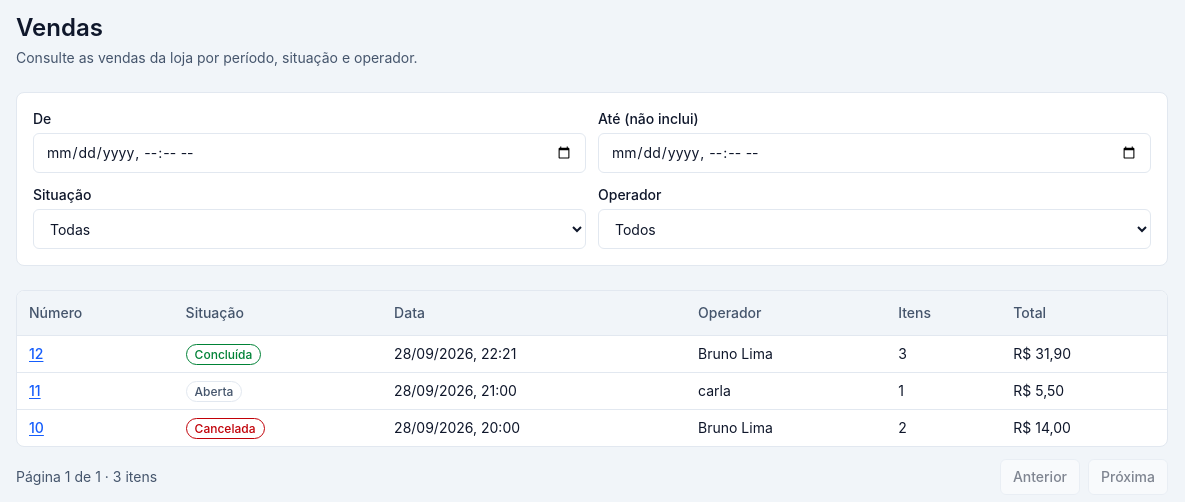
Test: SalesPage — lista › põe período, situação e operador na query do servidor
Check: the cell "12" is shown, box [17, 336, 174, 372]
Note: O datetime-local (hora local) vira ISO com offset — é o que o servidor aceita.
Step 1. Type "2026-09-28T08:00" into the field labelled "De" → [310, 153], box [33, 133, 586, 173]
Step 2. Type "2026-09-28T18:00" into the field labelled "Até (não inclui)" → [874, 153], box [598, 133, 1151, 173]
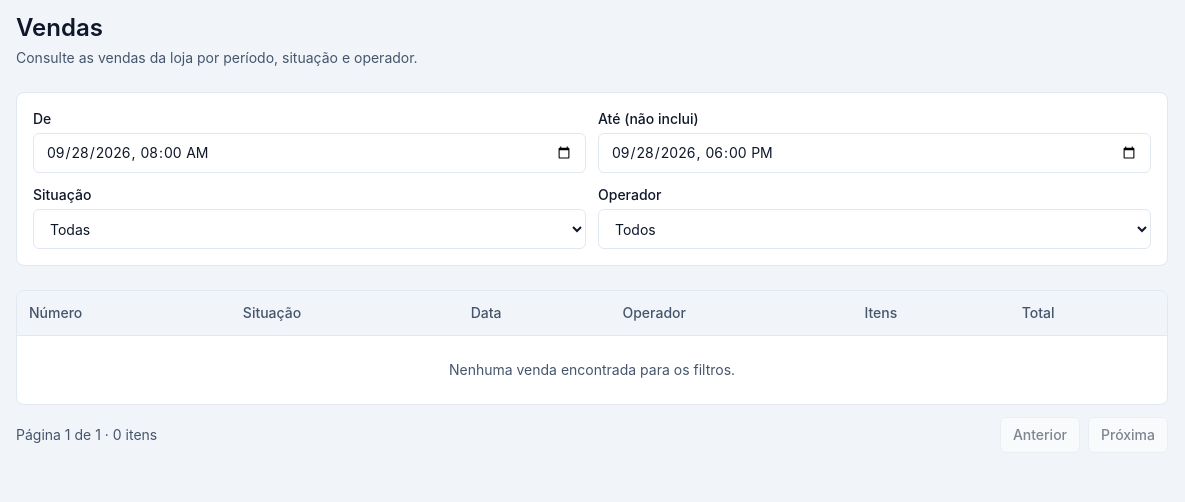
Note: Limpa o período para os próximos filtros não cruzarem com ele.
Step 3. Clear the field labelled "De" → [310, 153], box [33, 133, 586, 173]
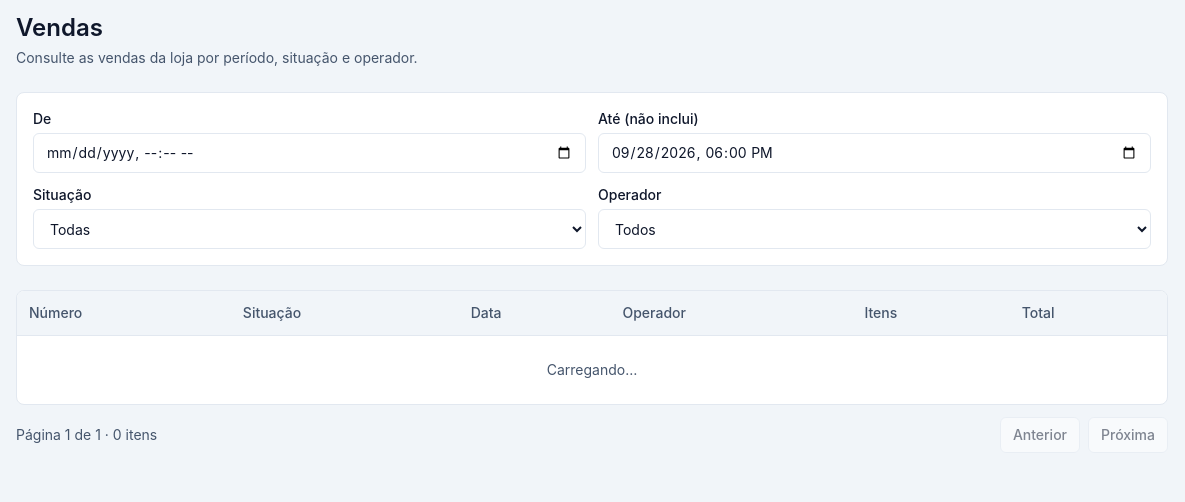
Step 4. Clear the field labelled "Até (não inclui)" → [874, 153], box [598, 133, 1151, 173]
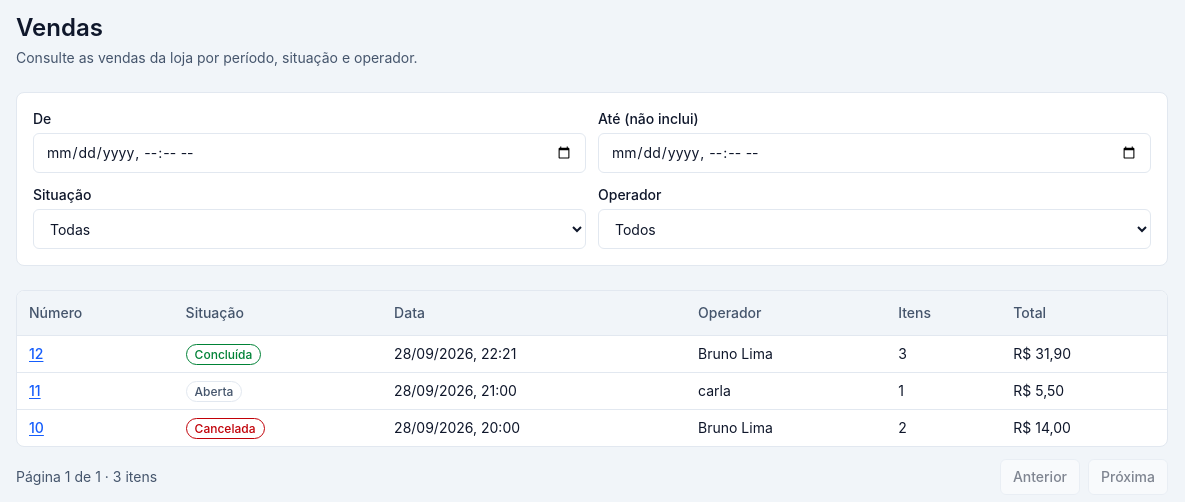
Step 5. Select "Canceladas" in the dropdown labelled "Situação" → [310, 229], box [33, 209, 586, 249]
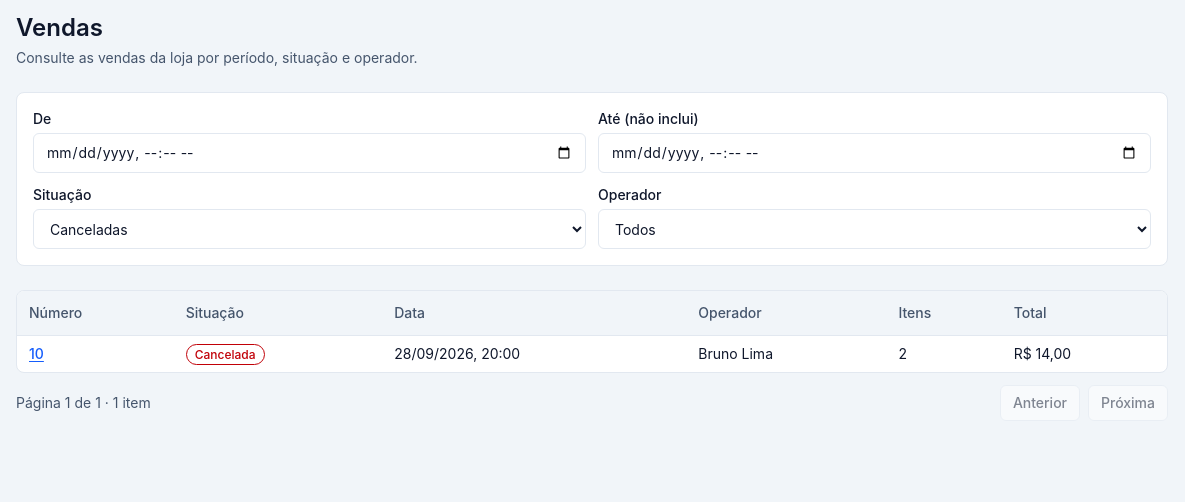
Check: the cell "Cancelada" is shown, box [174, 336, 382, 372]
Check: the text "Concluída" is gone
Step 6. Select "Todas" in the dropdown labelled "Situação" → [310, 229], box [33, 209, 586, 249]
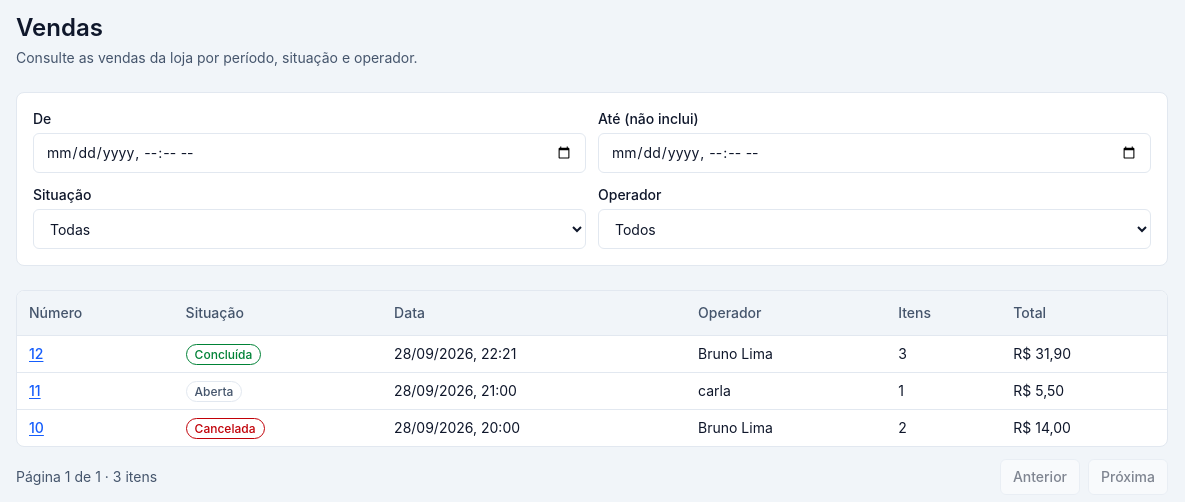
Step 7. Select "Bruno Lima" in the dropdown labelled "Operador" → [874, 229], box [598, 209, 1151, 249]
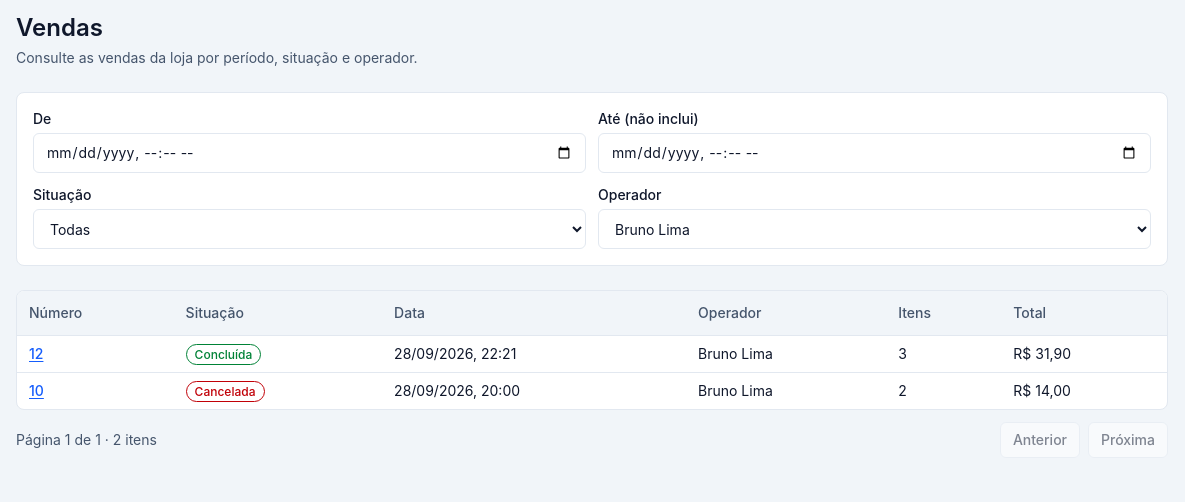
Check: the cell "12" is shown, box [17, 336, 174, 372]
Check: the link "11" is gone
